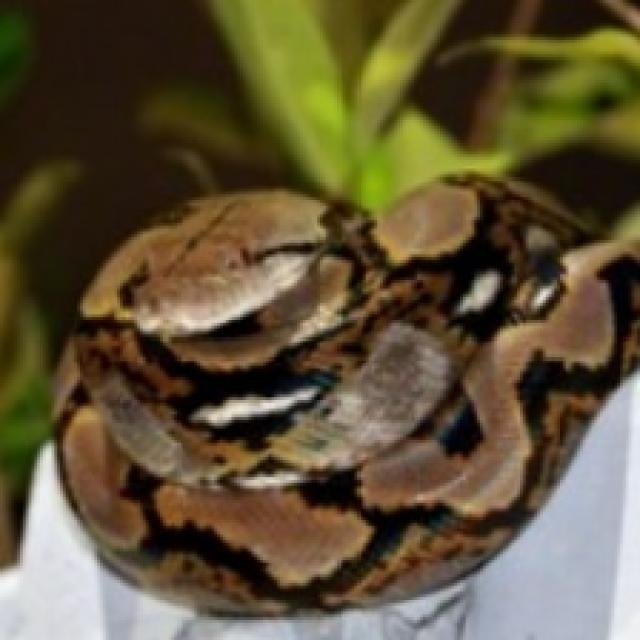reticulated python: (57, 174, 637, 611)
